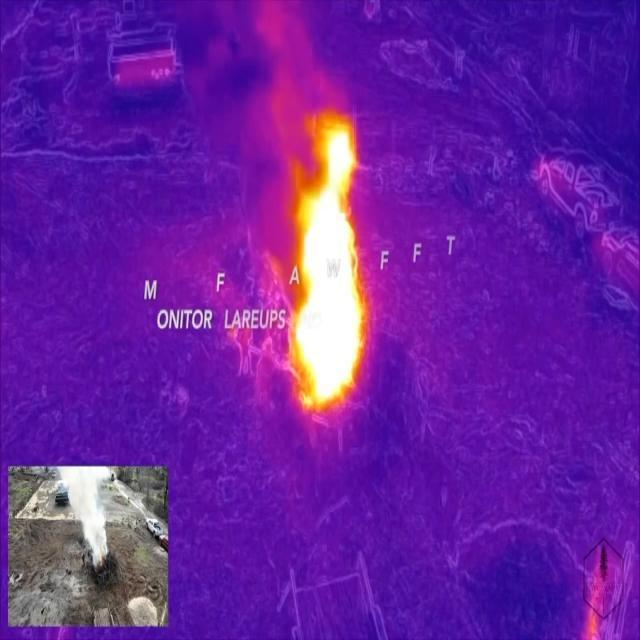fire: (295, 120, 365, 413)
